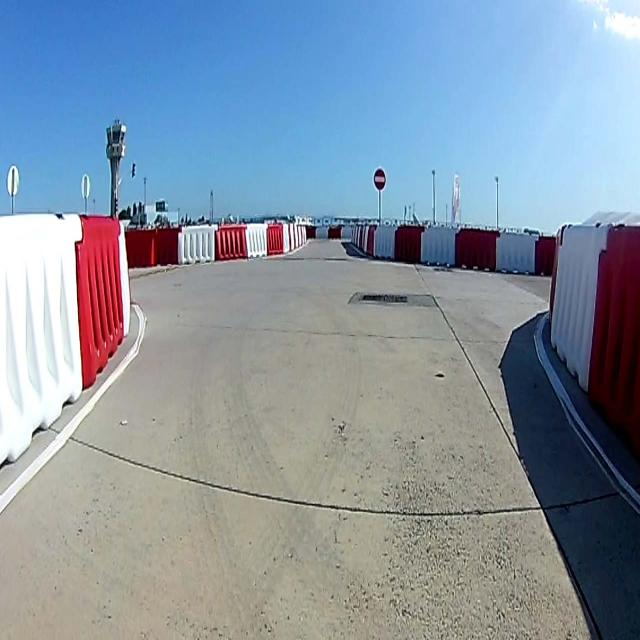girisyok: (373, 169, 386, 191)
